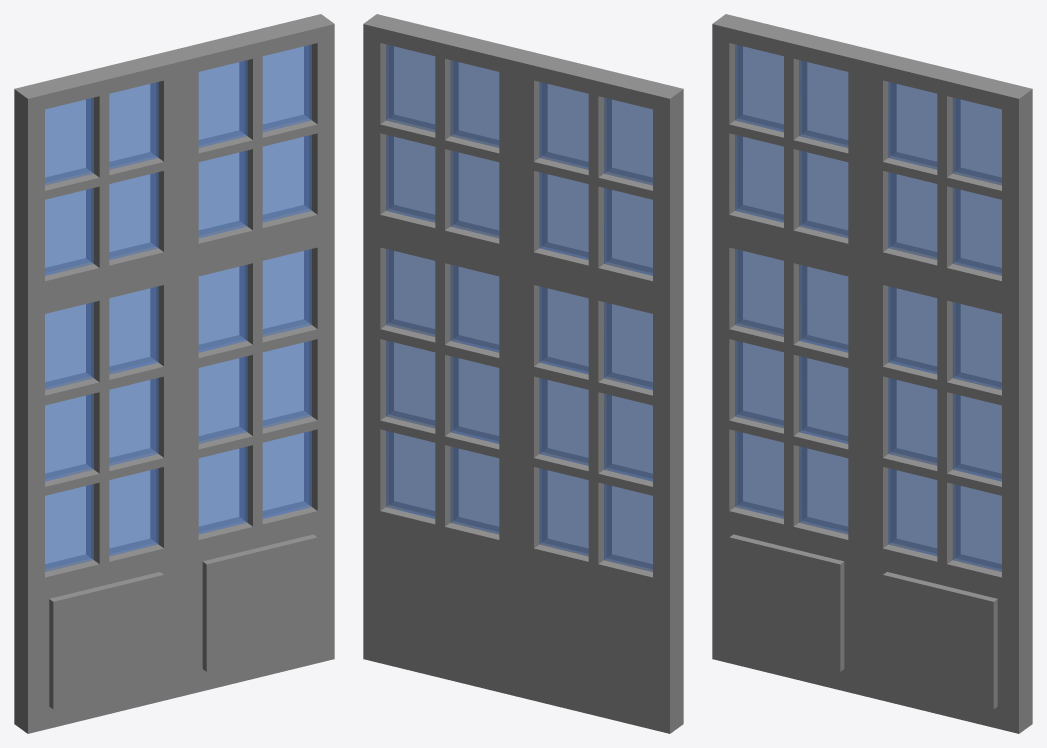
Rendered from Fenster.gltf.
The picture shows the model from 3 angles, left to right: view 1: azimuth 30°, elevation 25°; view 2: azimuth 150°, elevation 25°; view 3: azimuth 330°, elevation 25°; orthographic projection.
Size of the model in its own units: 1.3 by 2.56 by 0.13.
